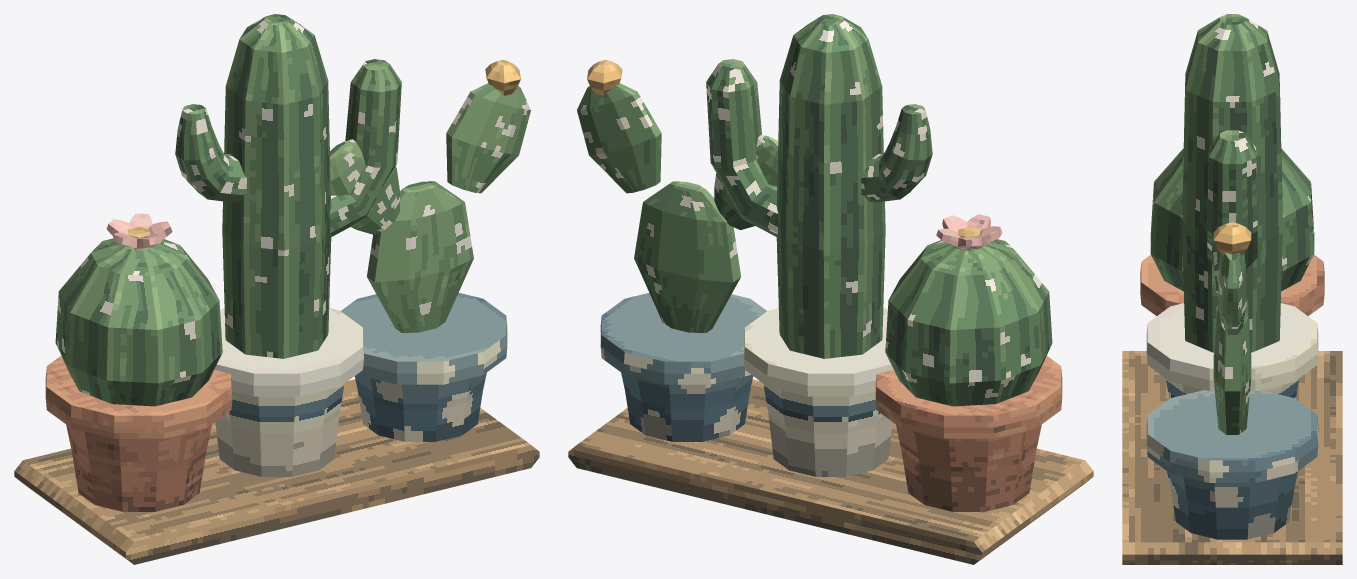
File: cactus_trio.glb
3 views of the same model, side by side, from view 1: azimuth 30°, elevation 25°; view 2: azimuth 150°, elevation 25°; view 3: azimuth 270°, elevation 25° (orthographic).
Parts seen in each view (by area): view 1: column, tray, barrel, pot, pot2, pot1, pad, arm, pad1, arm1, pad2, bud; view 2: column, tray, barrel, pot, pot2, pot1, pad, arm, pad1, arm1, pad2, bud; view 3: column, tray, pot2, pot1, barrel, arm, pad, pot, pad1, bud.
Boxes of the visible parts, x1,y1,x2,y2 form: column: (222, 14, 331, 358); tray: (14, 379, 539, 564); barrel: (55, 238, 222, 406); pot: (45, 356, 232, 511); pot2: (341, 293, 507, 441); pot1: (214, 308, 363, 476); pad: (367, 181, 473, 332); arm: (329, 59, 401, 236); pad1: (446, 83, 530, 193); arm1: (175, 104, 246, 202); pad2: (330, 139, 399, 234); bud: (485, 59, 520, 95); column: (776, 14, 885, 358); tray: (568, 379, 1093, 564); barrel: (885, 239, 1052, 406); pot: (875, 356, 1062, 511); pot2: (600, 293, 766, 441); pot1: (744, 308, 893, 476); pad: (634, 181, 740, 332); arm: (706, 59, 778, 236); pad1: (577, 83, 661, 193); arm1: (861, 104, 932, 202); pad2: (714, 134, 778, 229); bud: (587, 59, 622, 95); column: (1182, 14, 1282, 352); tray: (1122, 351, 1342, 564); pot2: (1146, 390, 1318, 539); pot1: (1146, 303, 1318, 398); barrel: (1150, 148, 1314, 291); arm: (1207, 130, 1257, 268); pad: (1213, 298, 1251, 434); pot: (1140, 255, 1324, 315); pad1: (1218, 252, 1246, 334); bud: (1213, 222, 1251, 255).
Size of the model in its own units: 1.07 by 0.9875 by 0.4375.
1 material, 1 textured.
